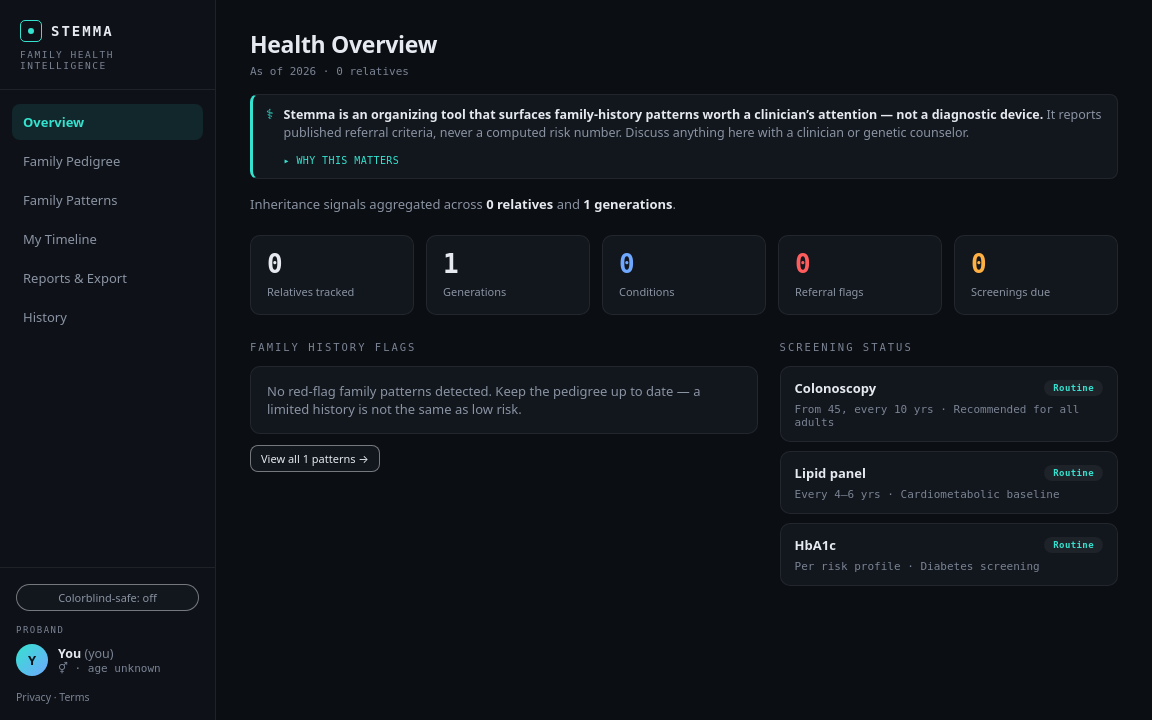
Test: App — navigation › switching views via the sidebar updates the store, aria-current, and renders the new view
The image size is (1152, 720).
Click the button "Family Pedigree" at (108, 161), box [12, 143, 203, 179]
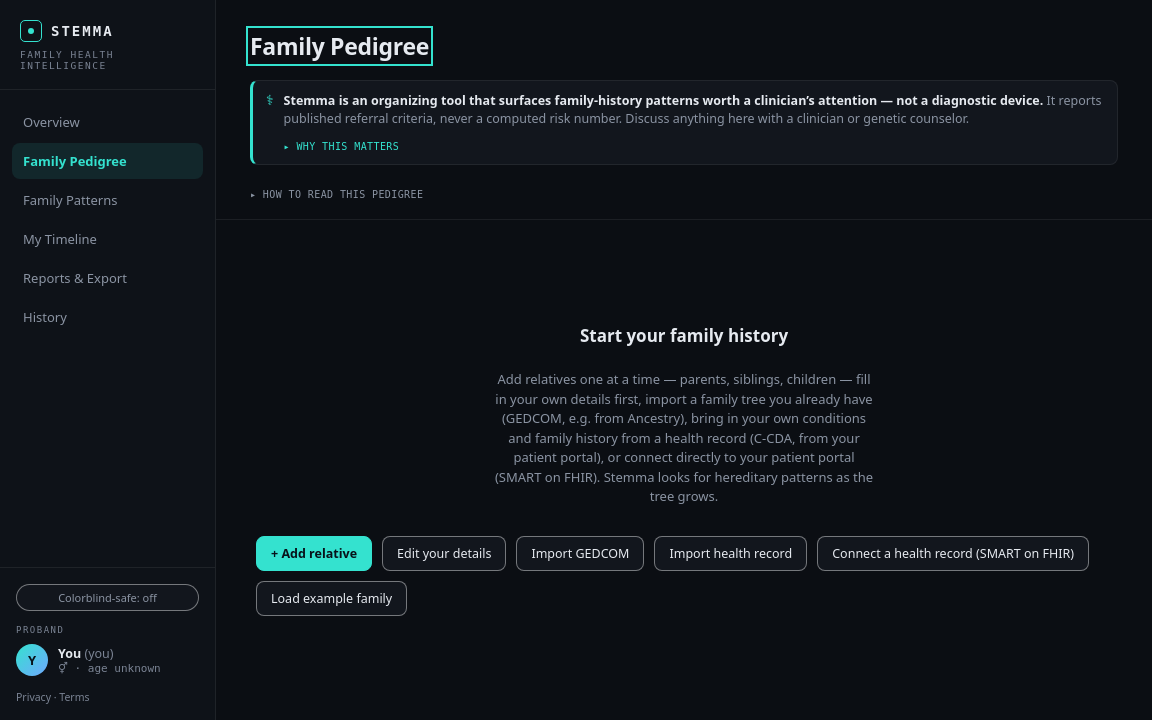
Expected: the heading "Family Pedigree" is shown, [250, 30, 429, 62]
Expected: the heading "Health Overview" is gone
